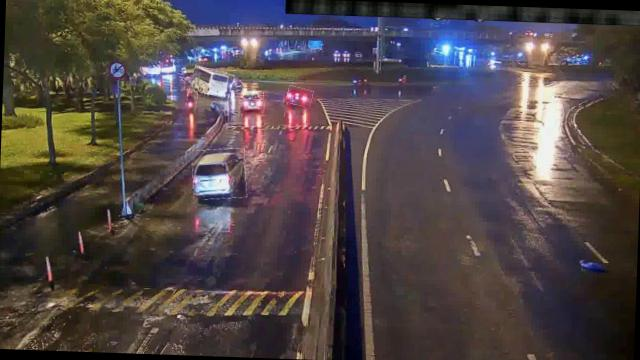Bike: (186, 92, 197, 113)
Bus: (191, 68, 234, 96), (238, 90, 263, 112)
Car: (191, 148, 247, 201), (286, 87, 314, 107), (239, 92, 264, 114)
